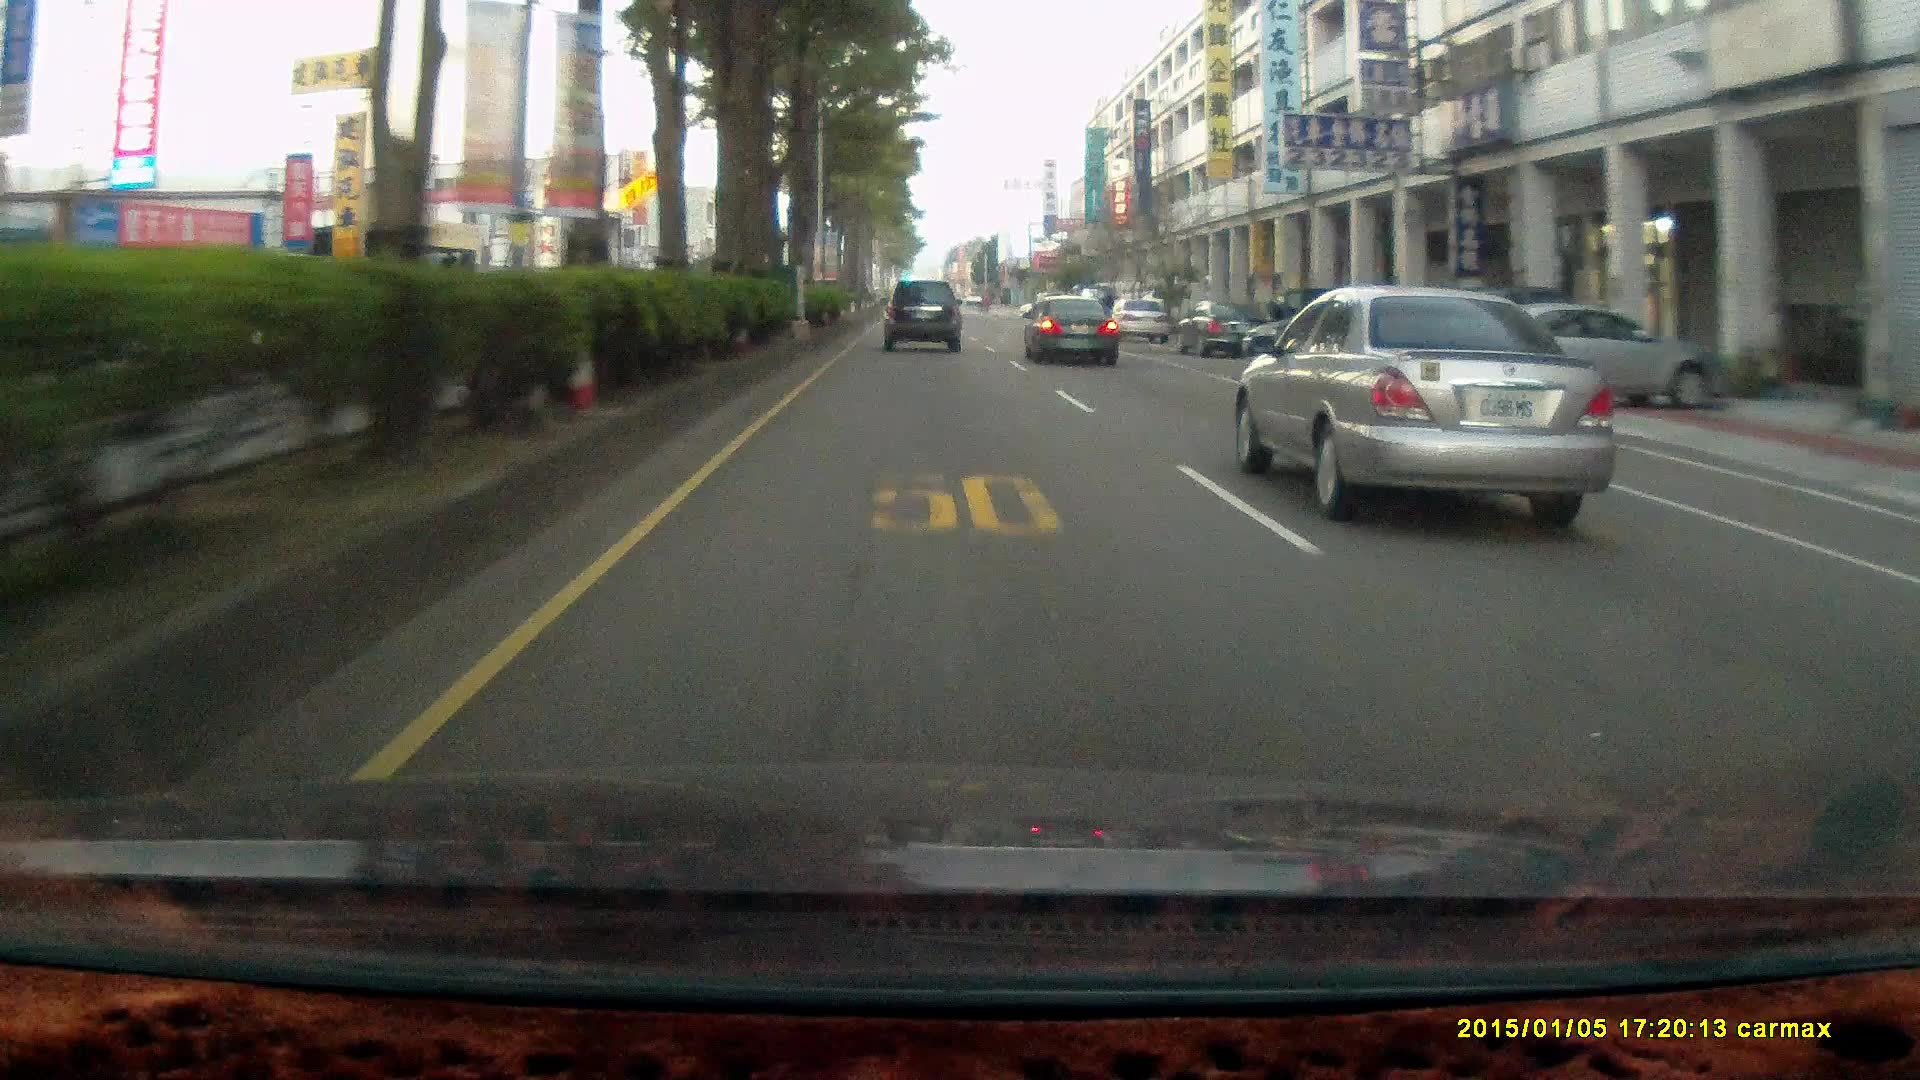vehicle: (1226, 286, 1633, 527), (1436, 301, 1735, 411), (1443, 298, 1734, 409), (1021, 294, 1116, 368), (1026, 294, 1124, 365), (885, 280, 967, 357), (880, 280, 963, 349), (1174, 295, 1267, 356), (1106, 294, 1168, 343), (1110, 295, 1170, 345)
